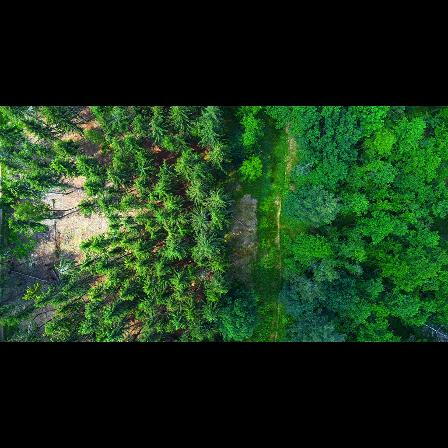Dead: (421, 318, 448, 342)
